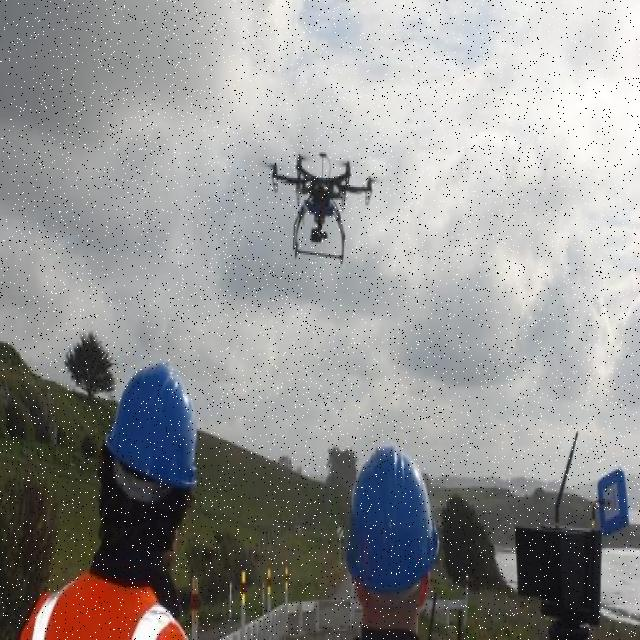UAV: (270, 156, 376, 268)
